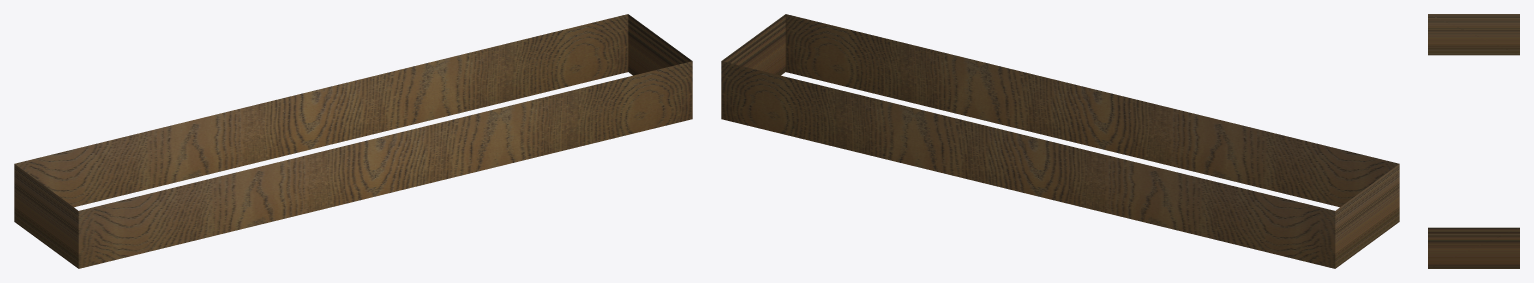
The model's file is BathroomBench.obj.
The picture shows the model from 3 angles, left to right: view 1: azimuth 30°, elevation 25°; view 2: azimuth 150°, elevation 25°; view 3: azimuth 270°, elevation 25°; orthographic projection. The views are drawn at different scales.
Parts seen in each view (by area): view 1: Box011; view 2: Box011; view 3: Box011.
Part boxes in pixels (bbox=[...]): Box011: bbox=[14, 14, 692, 268]; Box011: bbox=[721, 14, 1399, 268]; Box011: bbox=[1428, 14, 1519, 268].
Bounding box in the file's own units: 305 × 27.56 × 55.36.
